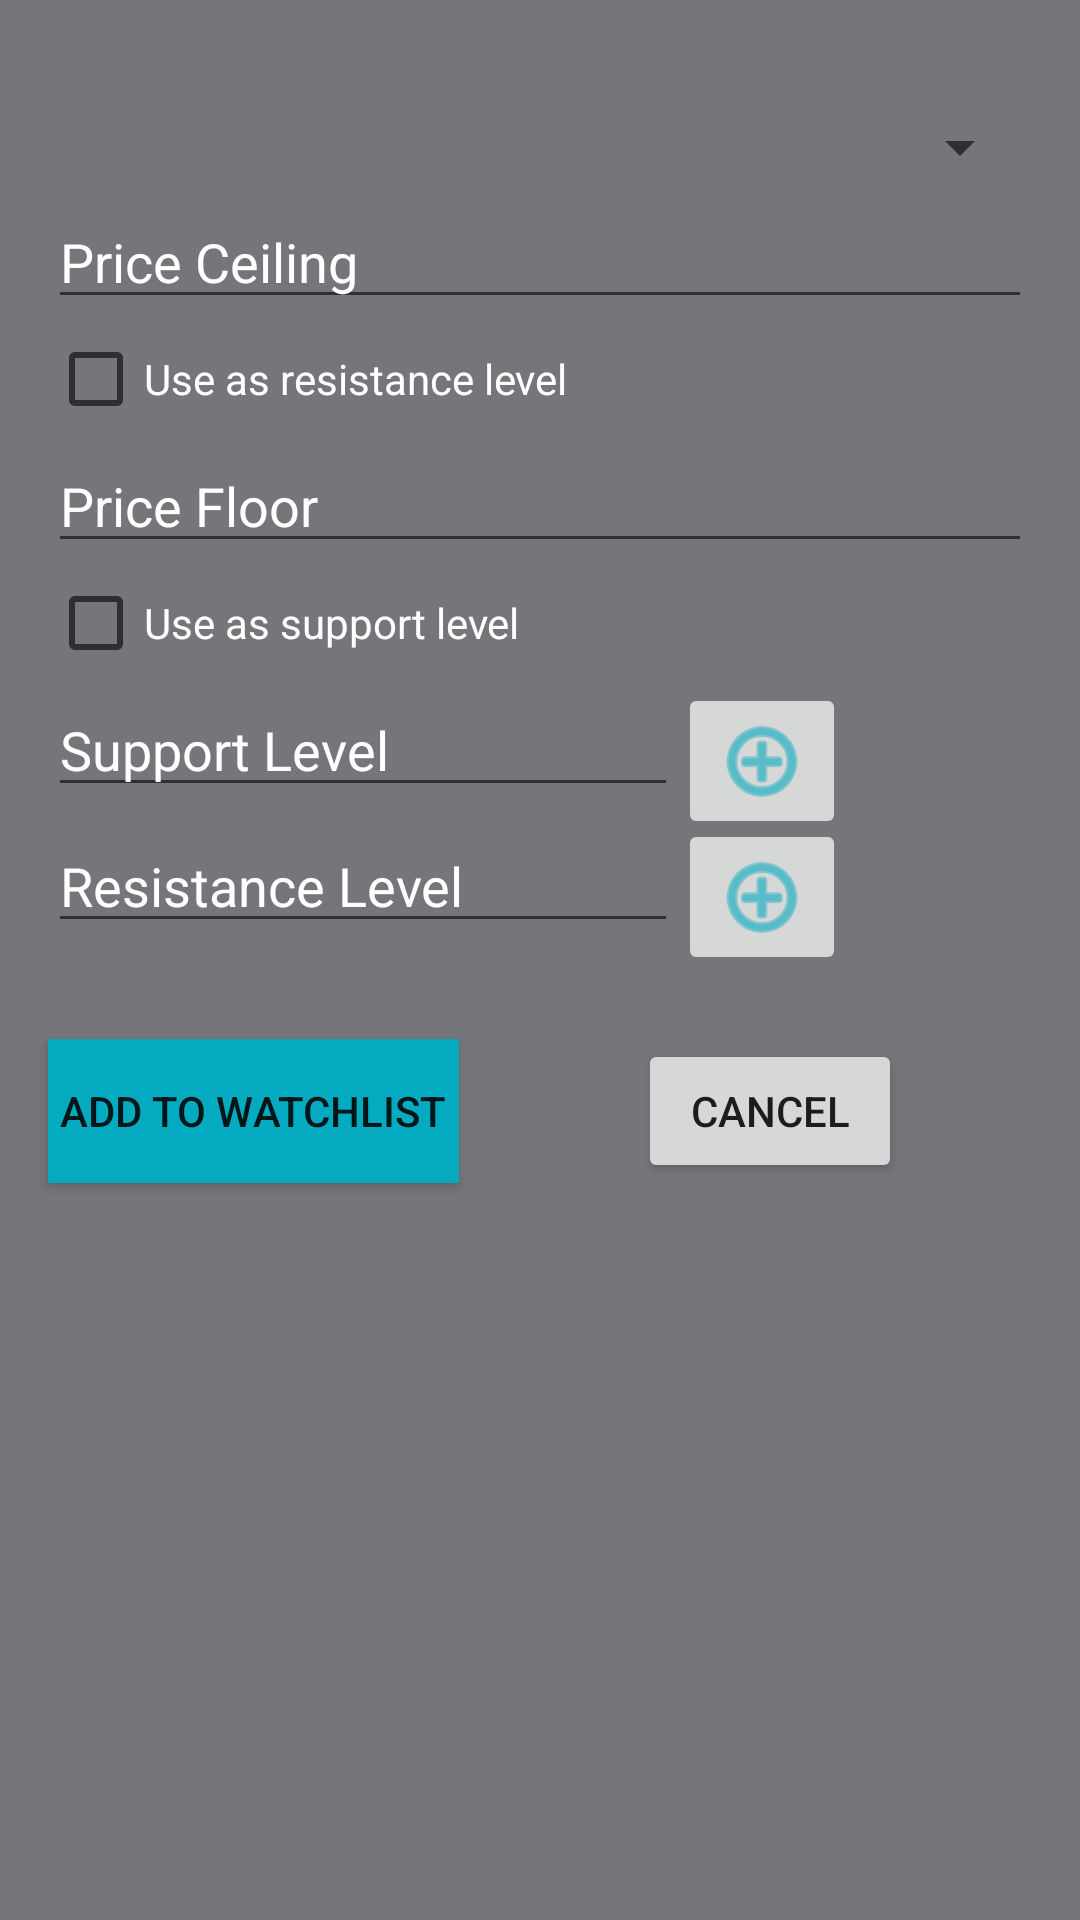

Icon bounding boxes for this 1080×1920 phone screenshot, format (x1=x1, y1=y1, x2=x2, y2=y2):
add: (x1=690, y1=701, x2=834, y2=821), (x1=690, y1=837, x2=834, y2=957)
